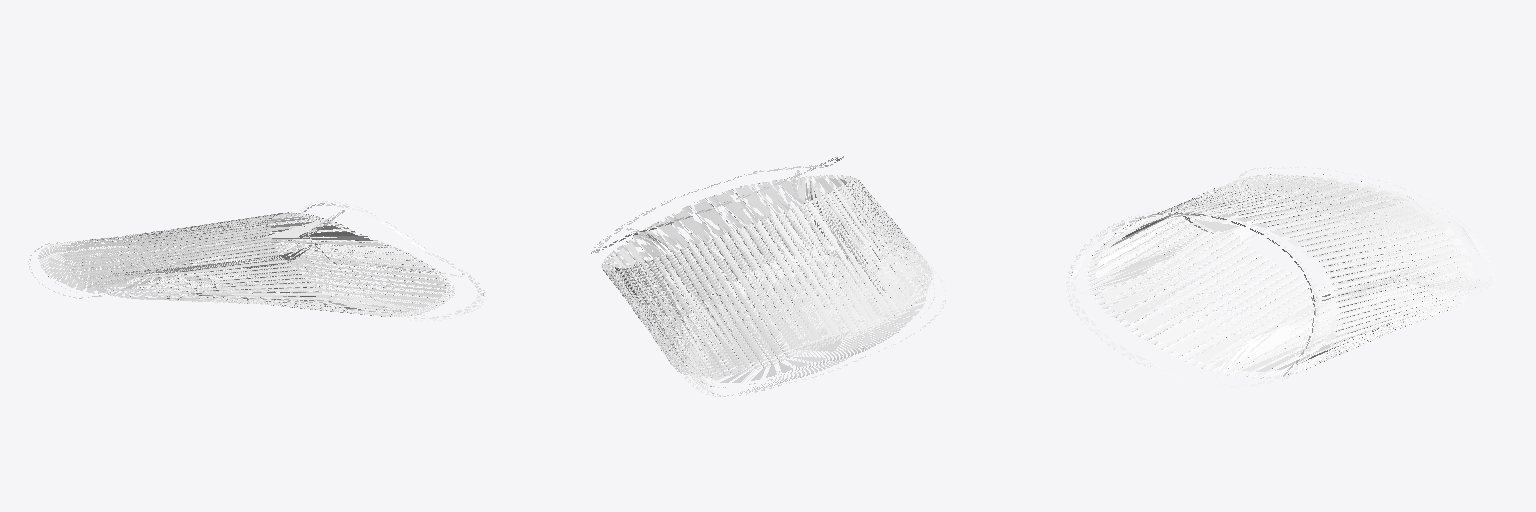
Rendered from bottle_cap_tall.004.obj.
3 views of the same model, side by side, from view 1: azimuth 30°, elevation 25°; view 2: azimuth 150°, elevation 25°; view 3: azimuth 270°, elevation 25° (orthographic).
Visible parts, largest first — view 1: bottle_cap_tall.004; view 2: bottle_cap_tall.004; view 3: bottle_cap_tall.004.
Boxes of the visible parts, box(x1,y1,x2,y2) form: bottle_cap_tall.004: box(28, 201, 485, 321); bottle_cap_tall.004: box(591, 156, 946, 396); bottle_cap_tall.004: box(1066, 167, 1493, 390).
Bounding box in the file's own units: 0.0437 × 0.0112 × 0.0436.